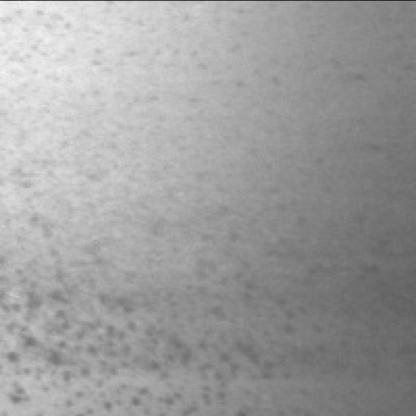pitted_surface: (0, 204, 279, 416), (0, 12, 110, 174)
